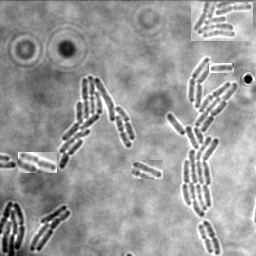Dividing: (18, 152, 57, 173), (204, 219, 222, 255), (199, 223, 215, 253), (209, 63, 234, 73)
Microcolony: (167, 57, 238, 216), (59, 75, 136, 169), (191, 2, 253, 41), (30, 204, 72, 251), (1, 200, 26, 255)
Rod: (132, 160, 163, 179)
